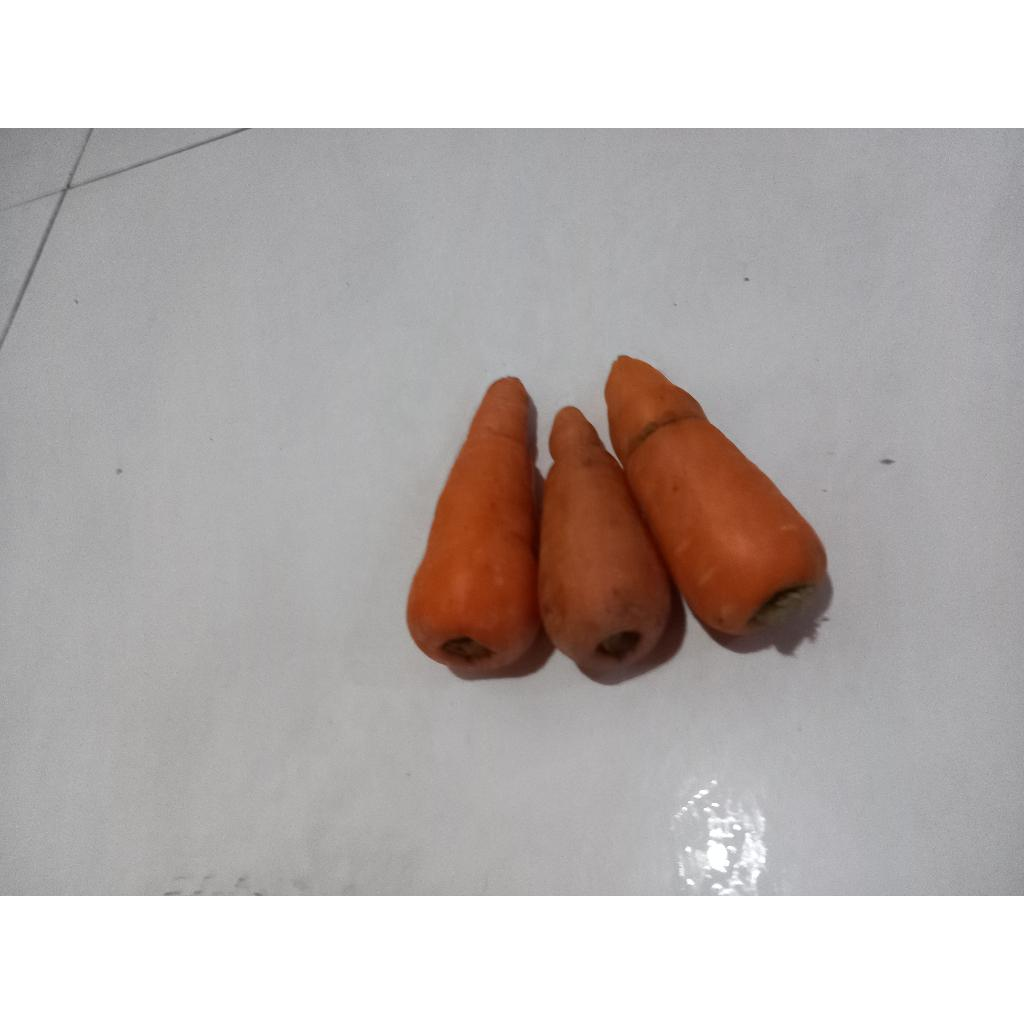carrot: (606, 356, 826, 634), (406, 378, 540, 672), (538, 406, 670, 670)
